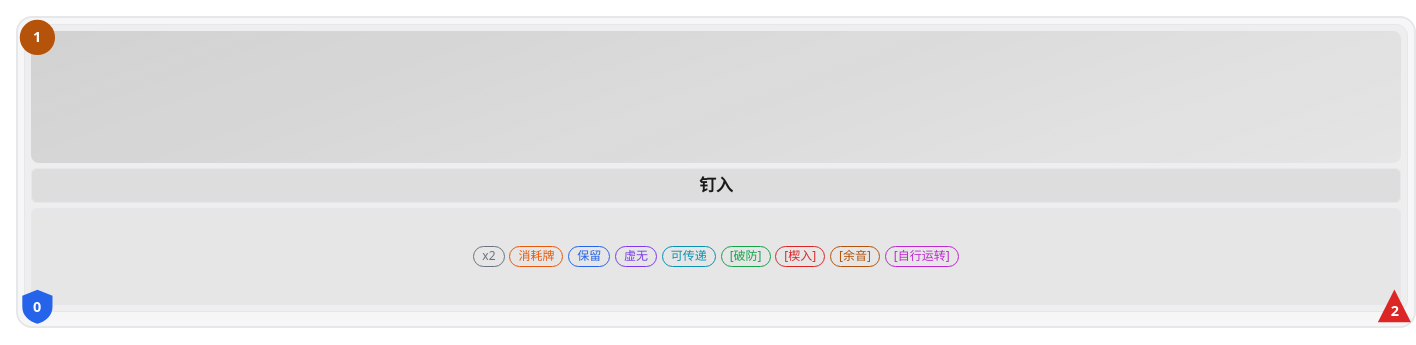
CardItem › 目标 + 段数合成一枚 pill：单体多段只剩 xN，且与词缀一样可点出说明
与其他词缀同一套机制：点它弹一句初步说明（细看开卡牌详情）
Click the button "x2" at (489, 256), box [473, 246, 505, 267]
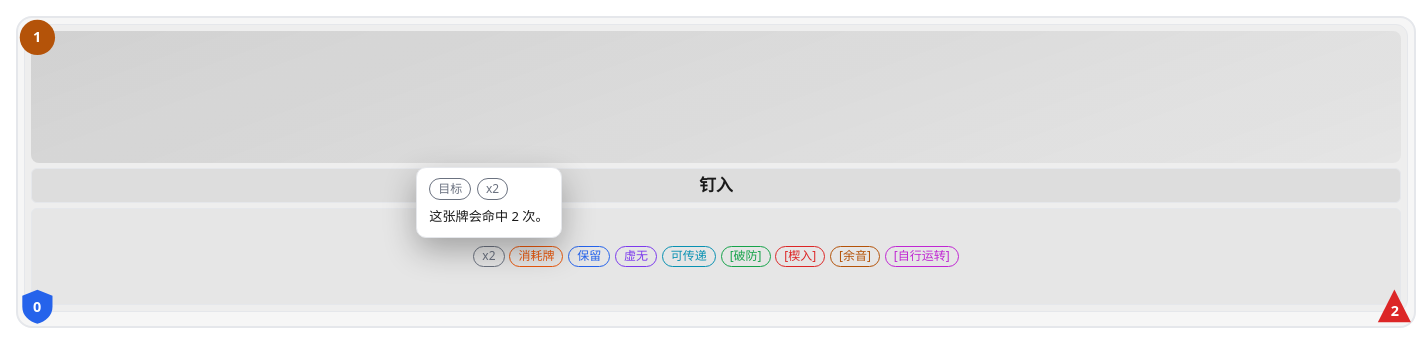
Now the tooltip shows "目标", box [438, 180, 462, 197]
Now the tooltip shows "x2", box [486, 180, 499, 197]
Now the tooltip shows "这张牌会命中 2 次。", box [429, 207, 549, 225]
